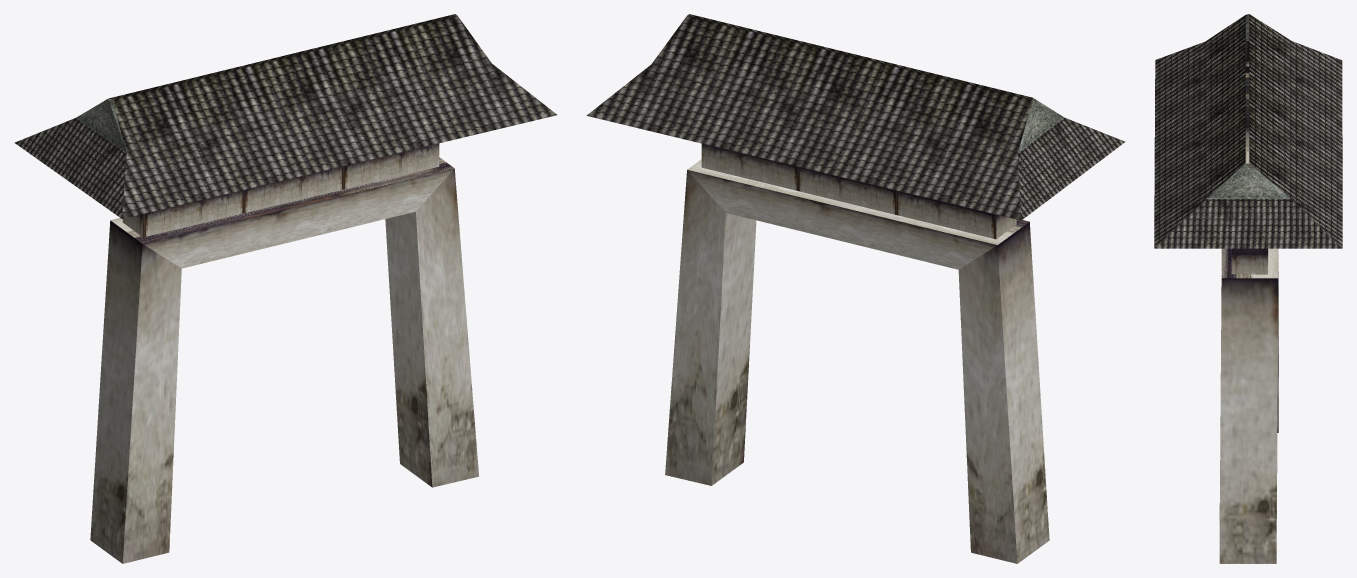
The model's file is ian1639.obj.
3 views of the same model, side by side, from view 1: azimuth 30°, elevation 25°; view 2: azimuth 150°, elevation 25°; view 3: azimuth 270°, elevation 25° (orthographic). The views are drawn at different scales.
Visible parts, largest first — view 1: ian1639; view 2: ian1639; view 3: ian1639.
Part boxes in pixels (x1,y1,x2,y2): ian1639: (14, 14, 556, 563); ian1639: (586, 14, 1125, 563); ian1639: (1154, 14, 1342, 563).
Bounding box in the file's own units: 140 × 139 × 59.52.
